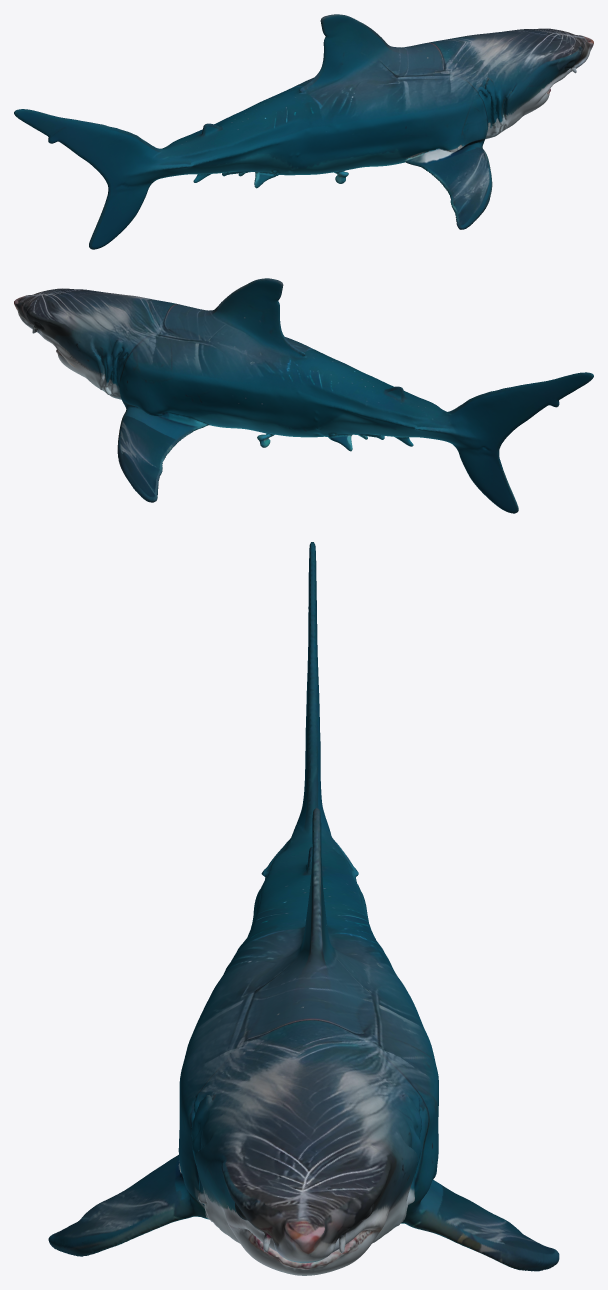
Rendered from shark.obj.
3 views of the same model, one above another, from view 1: azimuth 30°, elevation 25°; view 2: azimuth 150°, elevation 25°; view 3: azimuth 270°, elevation 25° (orthographic). The views are drawn at different scales.
Visible parts, largest first — view 1: tripo_node_338ec5f1-76c8-4219-ab88-2d2667692bf5; view 2: tripo_node_338ec5f1-76c8-4219-ab88-2d2667692bf5; view 3: tripo_node_338ec5f1-76c8-4219-ab88-2d2667692bf5.
Boxes of the visible parts, x1,y1,x2,y2 form: tripo_node_338ec5f1-76c8-4219-ab88-2d2667692bf5: (14, 14, 593, 249); tripo_node_338ec5f1-76c8-4219-ab88-2d2667692bf5: (14, 278, 593, 513); tripo_node_338ec5f1-76c8-4219-ab88-2d2667692bf5: (48, 542, 559, 1275).
Size of the model in its own units: 1 by 0.3202 by 0.3835.
1 material, 1 textured.
